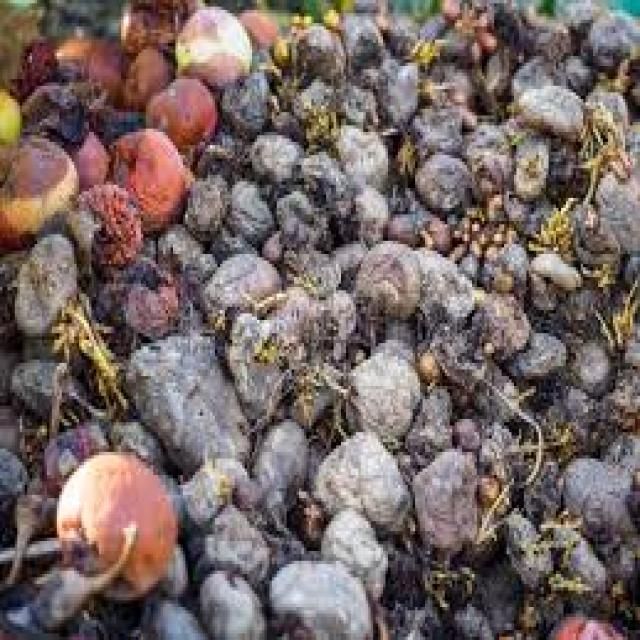organic waste: (0, 0, 638, 637), (126, 326, 252, 482), (54, 445, 176, 597), (0, 524, 138, 636), (311, 426, 413, 541), (106, 126, 188, 234), (430, 317, 516, 419), (44, 294, 124, 402), (267, 554, 371, 637), (0, 132, 77, 241), (338, 350, 422, 445), (408, 442, 479, 551), (212, 304, 282, 412), (561, 455, 637, 551), (170, 3, 250, 89), (260, 280, 354, 353), (91, 258, 178, 336), (190, 502, 267, 588), (590, 125, 638, 258), (12, 231, 74, 330), (319, 502, 383, 597), (247, 412, 304, 518), (0, 492, 57, 597), (76, 178, 138, 267), (50, 33, 124, 106), (40, 419, 111, 495), (198, 250, 279, 316), (546, 518, 606, 607), (541, 373, 608, 452), (7, 356, 89, 419), (496, 495, 554, 584), (144, 73, 212, 148), (176, 455, 247, 525), (590, 145, 638, 248), (353, 234, 418, 310), (195, 564, 262, 637), (410, 244, 474, 320), (566, 192, 618, 280), (492, 0, 571, 56), (20, 79, 86, 145), (580, 7, 638, 82), (119, 0, 212, 46), (462, 119, 514, 201), (378, 528, 430, 607), (225, 172, 279, 248), (472, 287, 531, 356), (328, 122, 386, 191), (472, 544, 516, 634), (151, 221, 217, 280), (512, 82, 586, 132), (403, 379, 452, 449), (558, 274, 613, 336), (420, 548, 475, 610), (410, 99, 467, 158), (292, 16, 348, 76), (408, 152, 464, 211), (269, 188, 324, 247), (220, 70, 269, 136), (373, 53, 415, 128), (180, 168, 222, 241), (516, 445, 558, 518), (502, 185, 556, 241), (294, 155, 346, 211), (504, 327, 568, 372), (106, 416, 161, 465), (118, 49, 170, 99), (334, 188, 386, 238), (566, 337, 613, 392), (5, 40, 54, 92), (252, 129, 304, 178), (546, 138, 593, 192), (344, 10, 386, 69), (509, 53, 561, 99), (331, 76, 376, 129), (529, 250, 573, 304), (509, 129, 546, 191), (0, 446, 30, 522), (284, 248, 336, 290), (546, 610, 625, 637), (600, 370, 638, 426), (442, 0, 494, 40), (422, 59, 474, 99), (556, 192, 593, 248), (479, 234, 524, 280), (610, 538, 638, 610), (474, 426, 506, 488), (144, 594, 190, 637), (393, 597, 442, 637), (583, 86, 625, 132), (69, 132, 104, 185), (91, 102, 141, 139), (289, 72, 331, 116), (299, 102, 339, 148), (534, 194, 573, 240), (267, 515, 301, 564), (600, 426, 638, 468), (610, 310, 638, 366), (455, 590, 489, 636), (238, 6, 274, 49), (380, 16, 418, 53), (252, 43, 282, 86), (566, 46, 595, 89), (618, 251, 638, 310), (413, 343, 440, 386), (484, 46, 509, 92), (554, 0, 600, 23), (331, 234, 363, 267), (385, 215, 430, 238), (437, 30, 472, 59), (0, 86, 15, 152), (269, 106, 299, 135), (393, 129, 410, 175), (452, 416, 477, 442), (475, 472, 499, 498), (260, 228, 280, 257), (415, 7, 440, 30), (57, 60, 79, 80), (269, 36, 287, 56), (289, 13, 309, 30), (321, 6, 334, 26)
